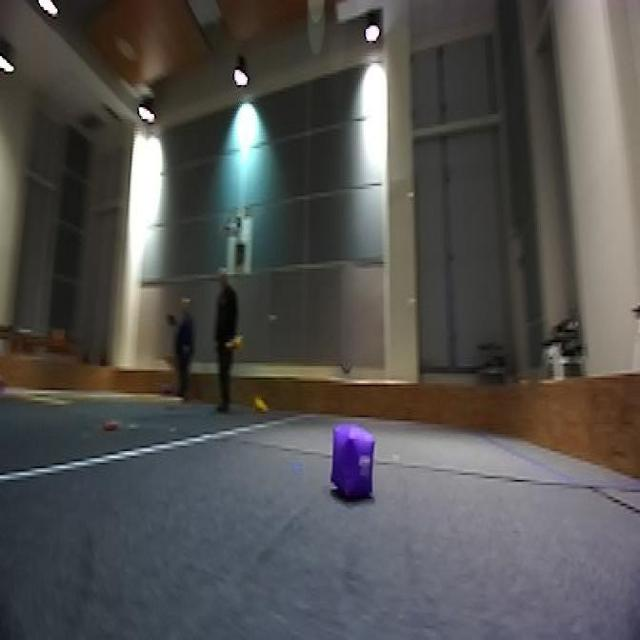frc_cone: (226, 330, 248, 356), (250, 392, 270, 414)
frc_cube: (330, 422, 376, 502)
